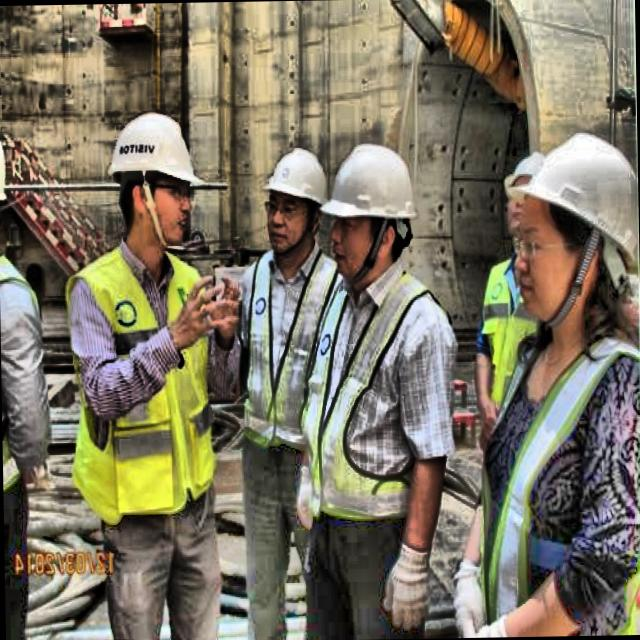helmet: (496, 118, 636, 336), (320, 134, 420, 288), (106, 103, 198, 254), (258, 142, 337, 259), (498, 144, 546, 236)
